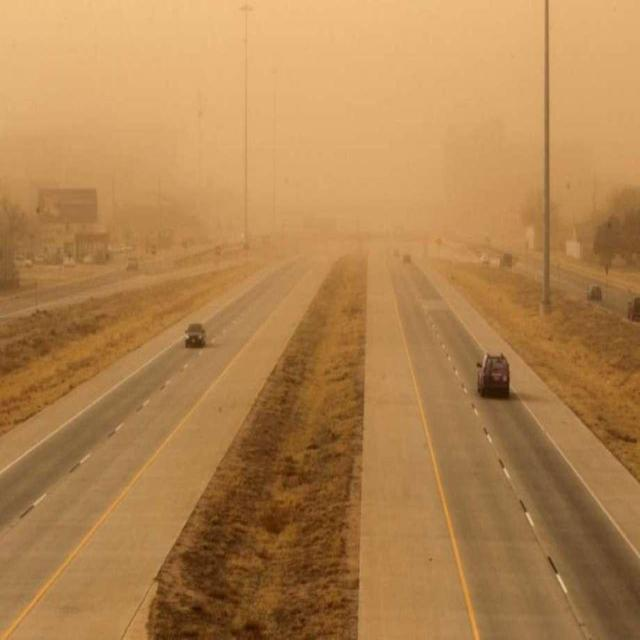Car: (472, 346, 512, 400), (184, 318, 208, 351)
